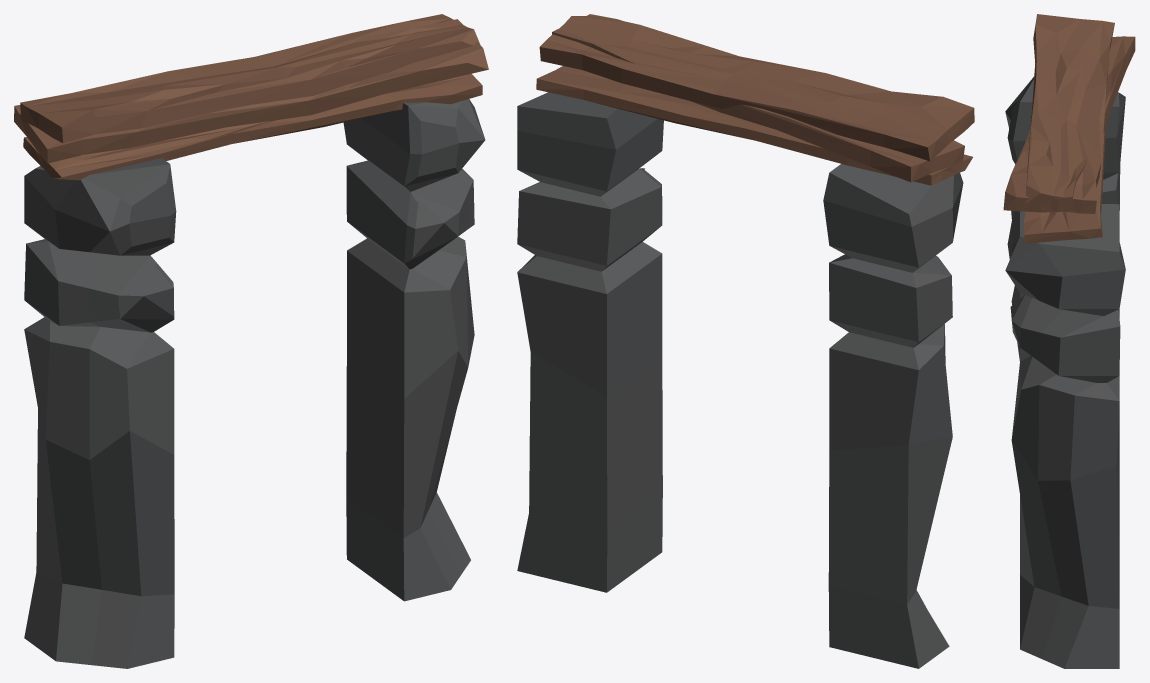
File: SM_entrance_03.fbx
3 views of the same model, side by side, from view 1: azimuth 30°, elevation 25°; view 2: azimuth 150°, elevation 25°; view 3: azimuth 270°, elevation 25° (orthographic). The views are drawn at different scales.
Visible parts, largest first — view 1: entrance_03; view 2: entrance_03; view 3: entrance_03.
Boxes of the visible parts, left/top/right/bottom form: entrance_03: left=14, top=14, right=488, bottom=668; entrance_03: left=517, top=14, right=974, bottom=668; entrance_03: left=1003, top=14, right=1135, bottom=668.
Size of the model in its own units: 234 by 283 by 70.92.
